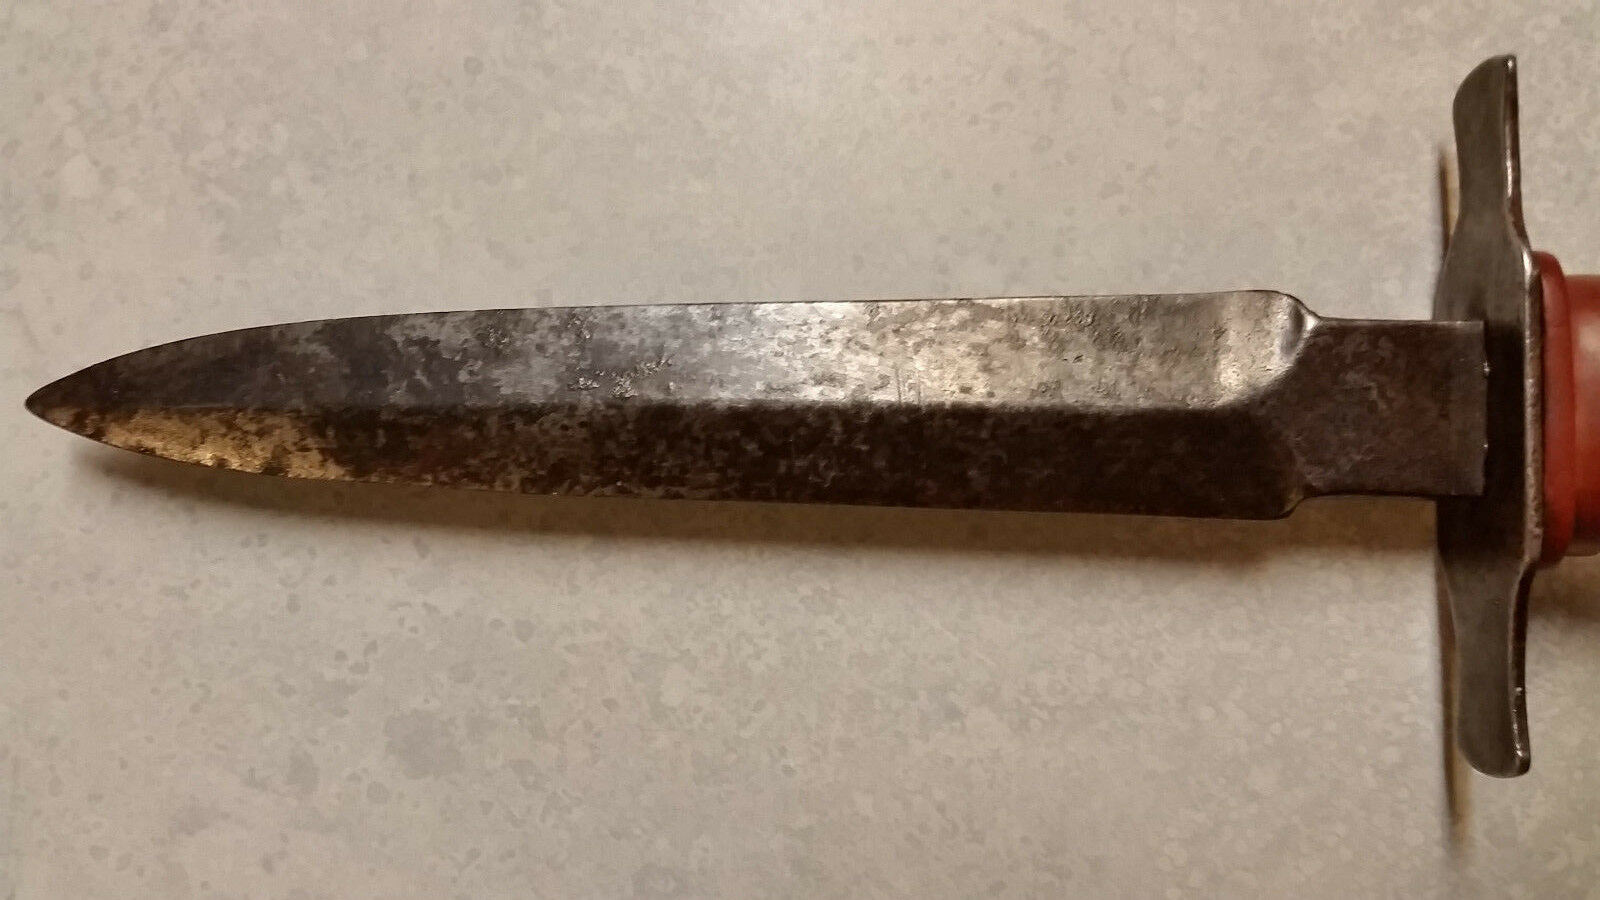knief: (23, 66, 1593, 785)
